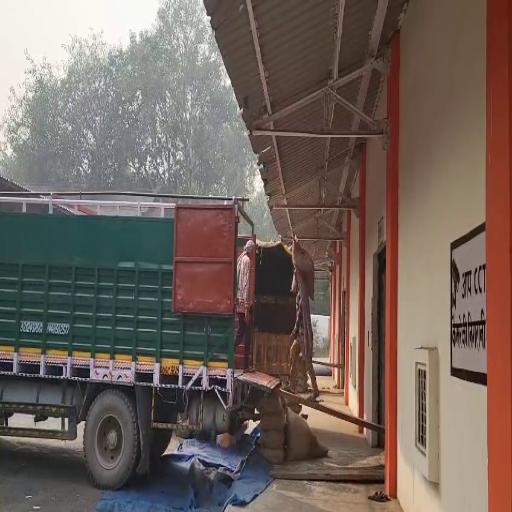bag: (288, 229, 318, 298)
